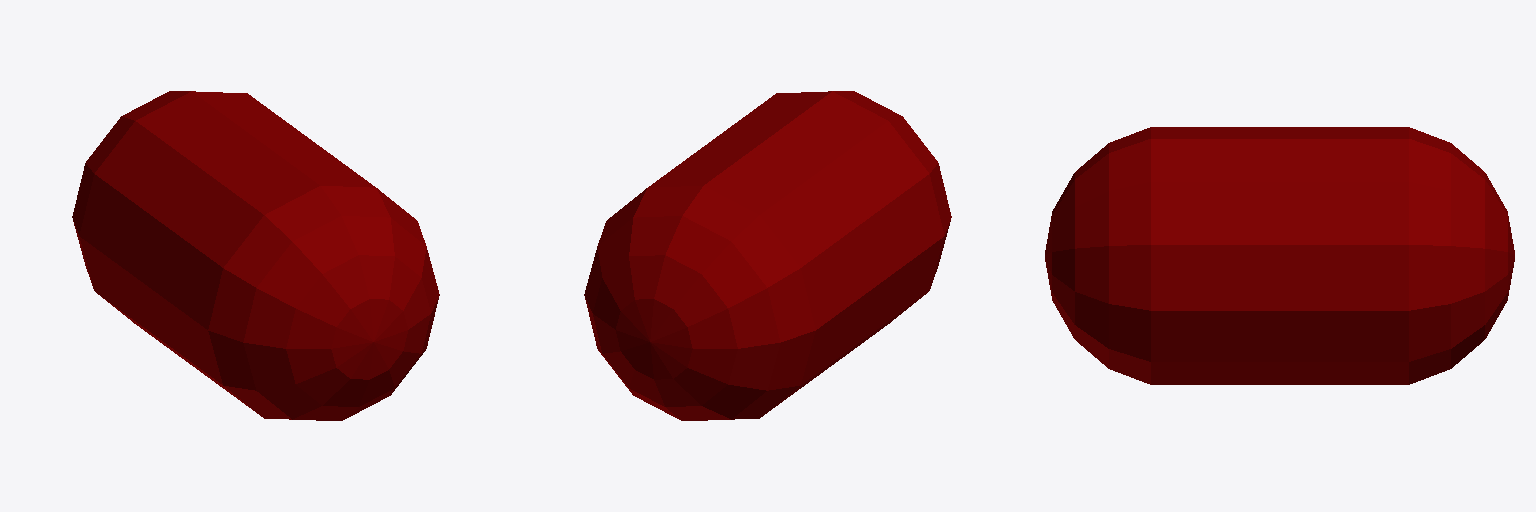
File: laser_2.obj
3 renders of one model, left to right at view 1: azimuth 30°, elevation 25°; view 2: azimuth 150°, elevation 25°; view 3: azimuth 270°, elevation 25°, orthographic.
Parts seen in each view (by area): view 1: Cylinder001; view 2: Cylinder001; view 3: Cylinder001.
Boxes of the visible parts, x1,y1,x2,y2 form: Cylinder001: [72, 91, 439, 420]; Cylinder001: [584, 91, 951, 420]; Cylinder001: [1045, 127, 1514, 384].
Bounding box in the file's own units: 40.92 × 40.92 × 74.35.